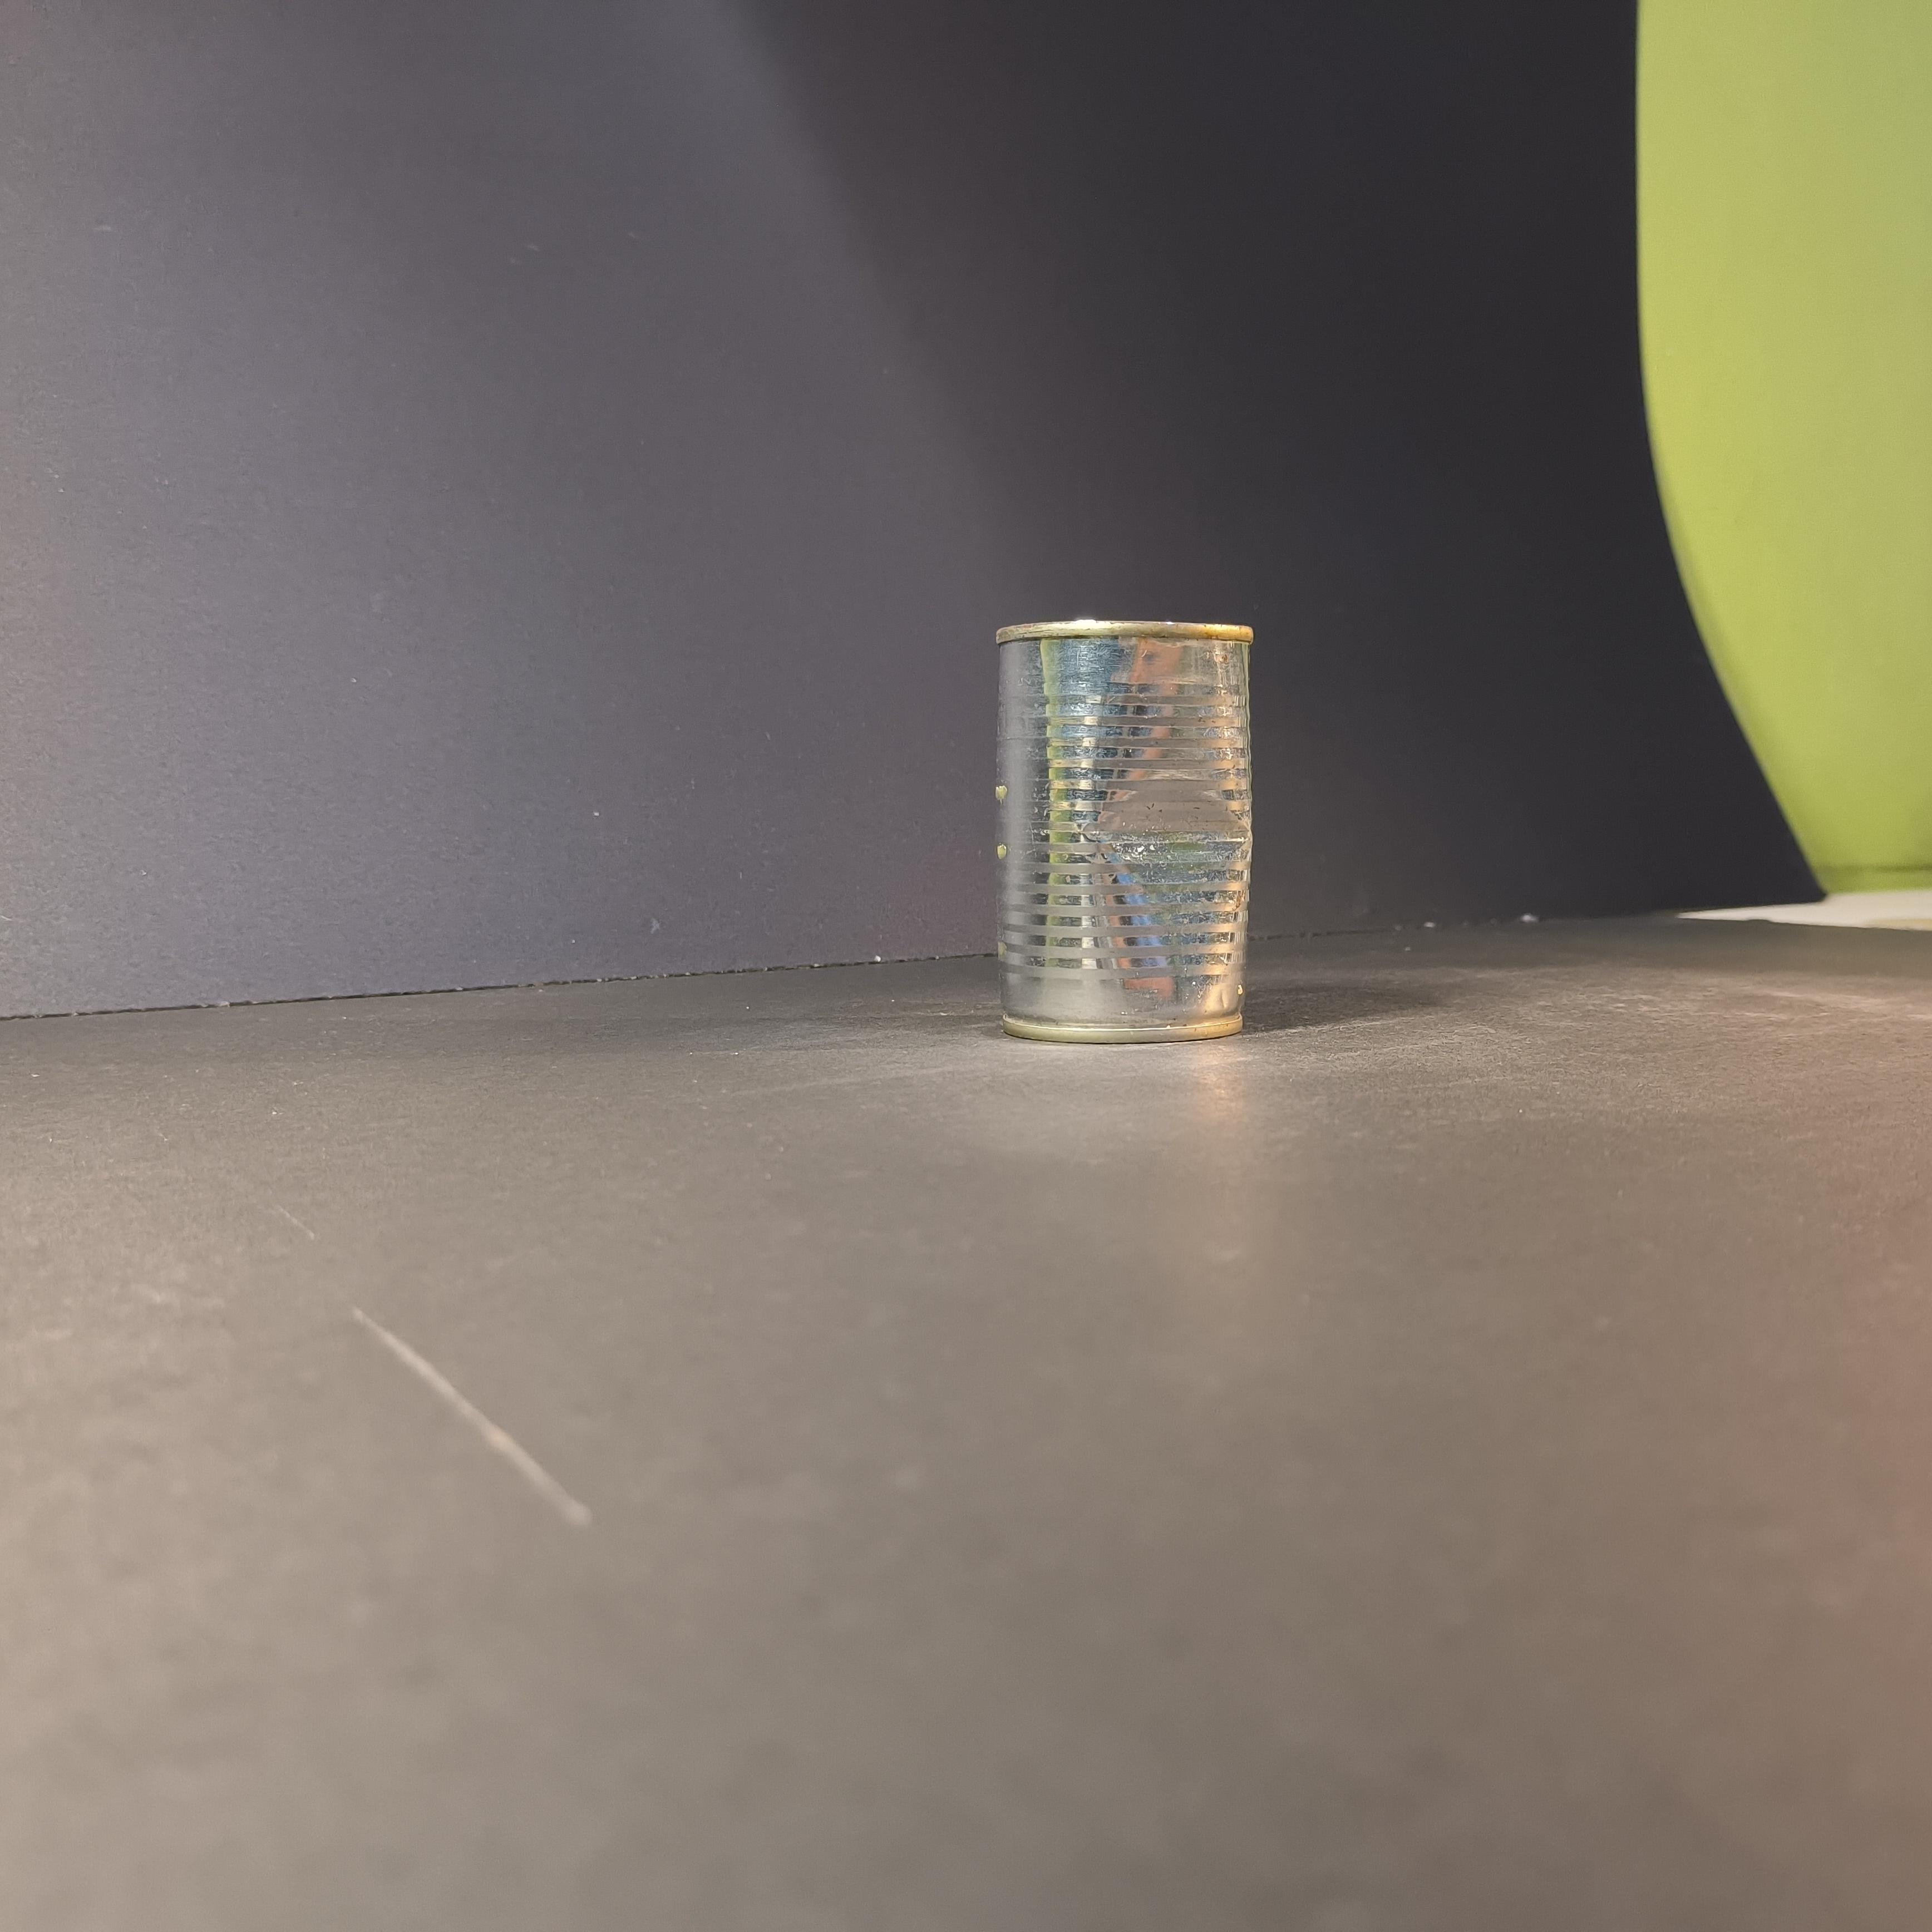Dented: (962, 577, 1267, 1063)
